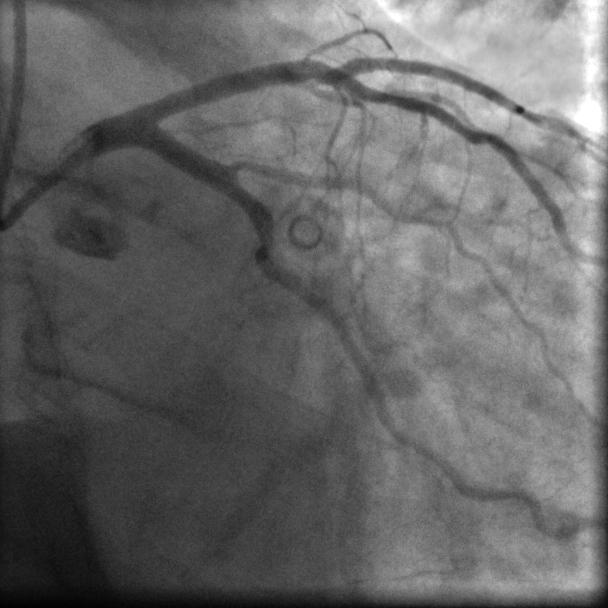Stenosis: (226, 153, 260, 177)
